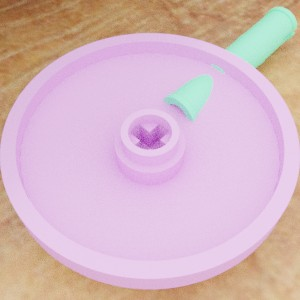lego: (0, 33, 300, 289), (162, 6, 297, 130)
